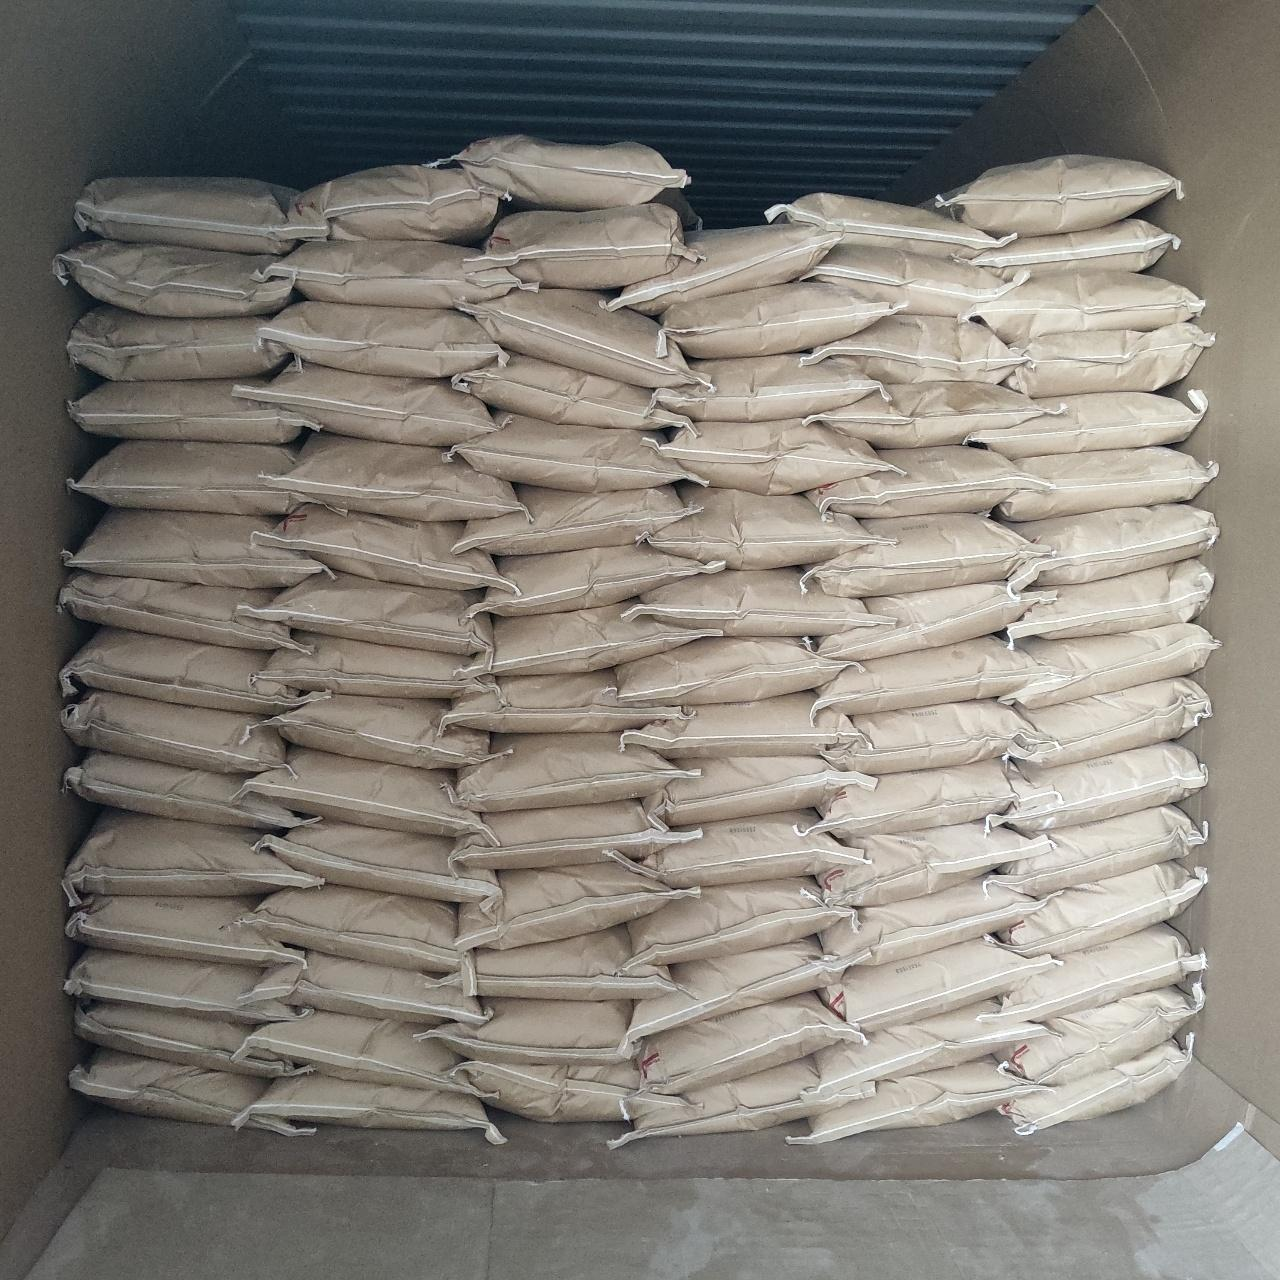sack: (620, 940, 855, 1054), (459, 290, 700, 386), (66, 808, 318, 896), (822, 938, 1056, 1030), (248, 745, 482, 838), (640, 996, 862, 1094), (64, 508, 331, 588), (614, 1058, 872, 1142), (234, 362, 496, 444), (256, 506, 508, 590), (456, 862, 697, 948), (272, 434, 518, 518), (790, 1058, 1039, 1142), (992, 860, 1206, 956), (70, 1048, 309, 1133), (992, 924, 1204, 1020), (244, 884, 467, 974), (60, 628, 300, 712), (66, 750, 316, 830), (256, 822, 501, 903), (628, 878, 852, 966), (988, 742, 1206, 832), (470, 200, 700, 286), (608, 226, 838, 312), (60, 572, 306, 652), (812, 758, 1051, 840), (816, 1002, 1044, 1088), (258, 238, 536, 308), (804, 516, 1048, 595), (937, 156, 1180, 236), (256, 572, 492, 654), (986, 806, 1206, 894), (1000, 986, 1200, 1082), (808, 583, 1054, 660), (648, 486, 886, 566), (818, 822, 1046, 904), (822, 878, 1040, 964), (64, 690, 286, 774), (452, 354, 693, 430), (76, 178, 324, 252), (241, 1073, 504, 1142), (464, 604, 714, 676), (452, 734, 690, 810), (816, 636, 1054, 712), (238, 1010, 462, 1090), (68, 948, 309, 1022), (1000, 1040, 1190, 1133), (54, 240, 294, 314), (1008, 678, 1210, 765), (467, 544, 719, 614), (452, 414, 692, 488), (629, 812, 869, 886), (434, 138, 688, 207), (240, 952, 488, 1022), (1002, 624, 1216, 704), (76, 1002, 302, 1078), (1008, 504, 1218, 586), (660, 282, 892, 356), (263, 302, 502, 374), (966, 272, 1204, 343), (452, 484, 692, 554), (810, 445, 1046, 516), (1008, 560, 1210, 642), (658, 420, 881, 493), (66, 896, 300, 966), (454, 802, 700, 869), (636, 568, 878, 636), (70, 442, 304, 512), (298, 164, 508, 241), (264, 696, 496, 765), (70, 380, 316, 444), (68, 304, 286, 376), (622, 692, 856, 758), (971, 390, 1206, 456), (806, 382, 1050, 445), (617, 638, 856, 702), (646, 756, 872, 824), (996, 448, 1214, 518), (467, 926, 680, 998), (826, 702, 1040, 772), (254, 634, 496, 696), (1006, 324, 1212, 396), (806, 248, 1024, 316), (442, 670, 685, 731), (765, 195, 1002, 256), (656, 356, 880, 420), (810, 316, 1022, 382), (418, 1000, 640, 1062), (454, 1060, 685, 1118), (958, 218, 1178, 275)
